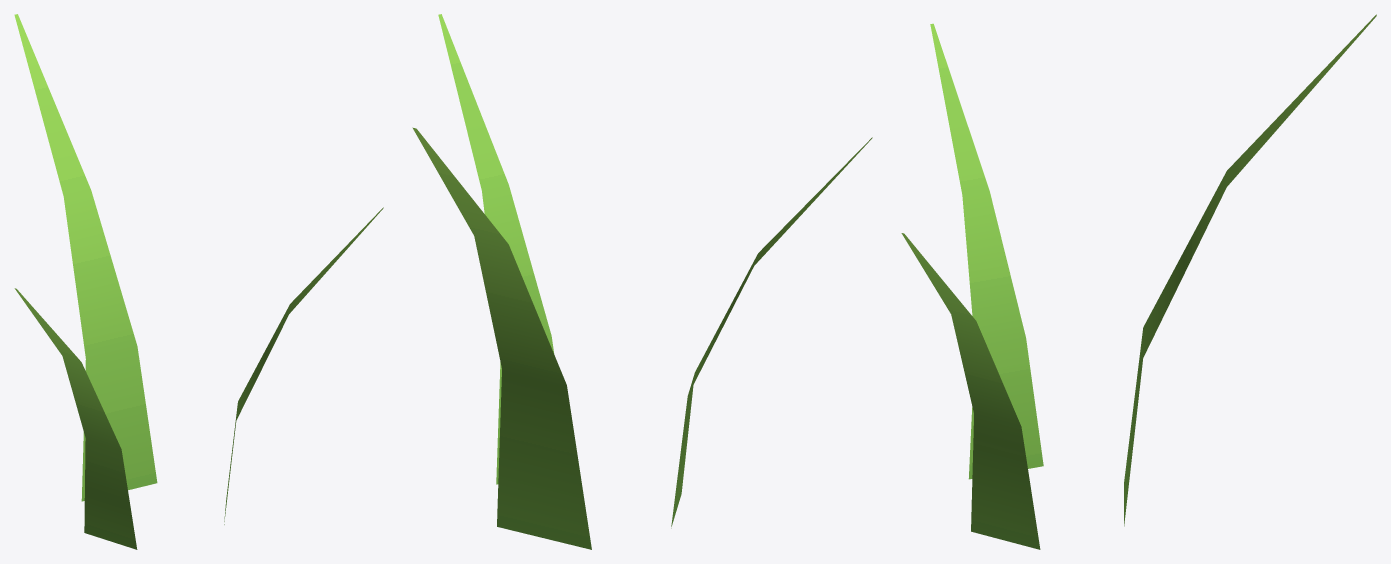
Rendered from sm_forest_grasstuft.fbx.
The picture shows the model from 3 angles, left to right: view 1: azimuth 30°, elevation 25°; view 2: azimuth 150°, elevation 25°; view 3: azimuth 270°, elevation 25°; orthographic projection. The views are drawn at different scales.
Parts seen in each view (by area): view 1: sm_forest_grasstuft; view 2: sm_forest_grasstuft; view 3: sm_forest_grasstuft.
Part boxes in pixels (bbox=[...]): sm_forest_grasstuft: bbox=[14, 14, 383, 549]; sm_forest_grasstuft: bbox=[412, 14, 872, 549]; sm_forest_grasstuft: bbox=[901, 14, 1376, 549].
Size of the model in its own units: 64.52 by 60.83 by 69.41.
